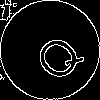Q: (25, 25, 87, 87)
